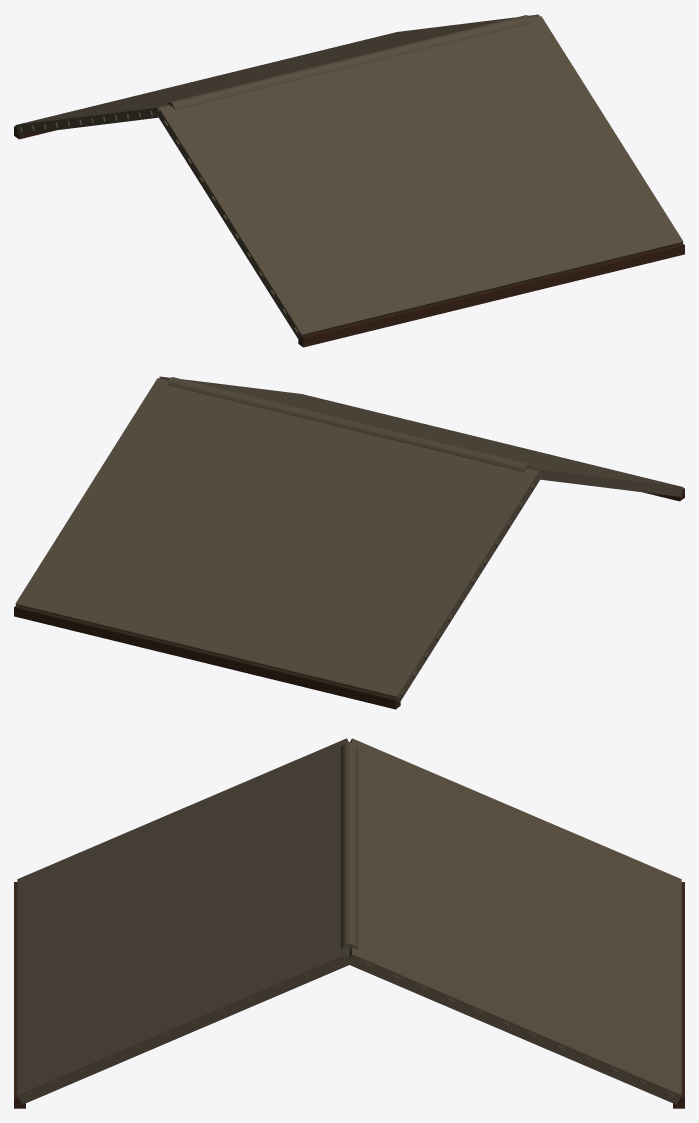
File: GalakasMidCity_ROF_W03D04_TiledGable_01.obj
3 views of the same model, one above another, from view 1: azimuth 30°, elevation 25°; view 2: azimuth 150°, elevation 25°; view 3: azimuth 270°, elevation 25° (orthographic). The views are drawn at different scales.
Visible parts, largest first — view 1: roof_back_slope, roof_front_slope, roof_back_eave, roof_ridge_cap; view 2: roof_front_slope, roof_back_slope, roof_front_eave, roof_ridge_cap; view 3: roof_front_slope, roof_back_slope, roof_ridge_cap, roof_back_eave, roof_front_eave.
Part boxes in pixels (x1,y1,x2,y2): roof_back_slope: [157, 16, 683, 340]; roof_front_slope: [15, 14, 539, 134]; roof_back_eave: [298, 243, 684, 347]; roof_ridge_cap: [170, 15, 531, 109]; roof_front_slope: [15, 378, 540, 702]; roof_back_slope: [159, 376, 683, 496]; roof_front_eave: [14, 605, 400, 709]; roof_ridge_cap: [167, 377, 528, 471]; roof_front_slope: [347, 738, 681, 1104]; roof_back_slope: [17, 738, 349, 1104]; roof_ridge_cap: [341, 742, 357, 949]; roof_back_eave: [14, 882, 25, 1108]; roof_front_eave: [673, 882, 684, 1108].
Bounding box in the file's own units: 6.95 × 2.35 × 9.06.
